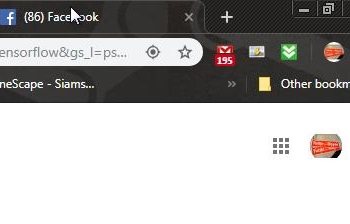cursor: (62, 4, 88, 28)
